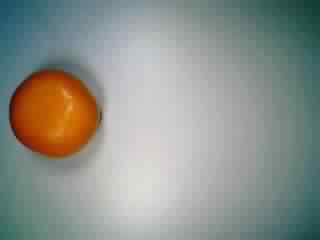orange: (6, 67, 105, 157)
